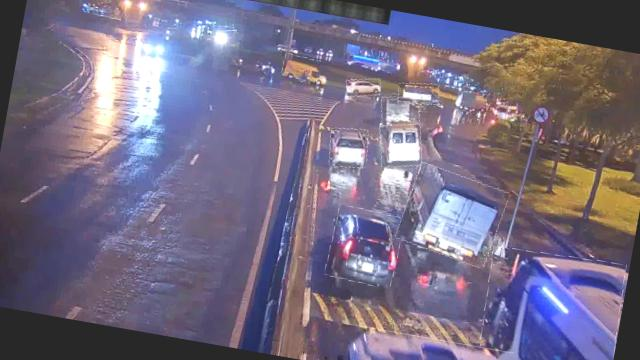Bus: (470, 242, 630, 360), (339, 323, 514, 360), (376, 116, 428, 171)
Car: (324, 205, 406, 289), (326, 124, 370, 170), (346, 74, 382, 100)
Truck: (396, 164, 508, 267), (378, 93, 422, 130), (396, 79, 441, 109), (282, 53, 322, 81)
